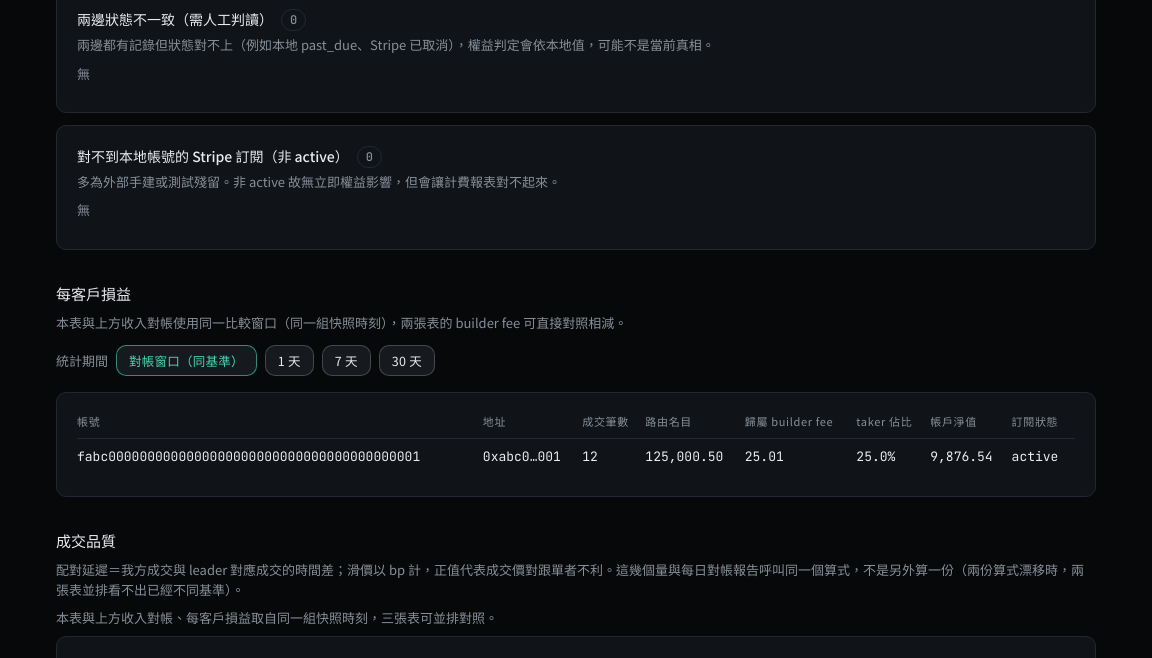
OpsPage › 期間切換 → days 模式送 {days}，切回對帳窗口送 {window:'accrued'}
This screenshot has width=1152, height=658.
(page scrolled)
expect the text "fabc0000000000000000000000000000000000000001" is shown: met, box [77,439,483,476]
Click the button "7 天".
click(346, 361)  # box [322,345,371,376]
(page scrolled)
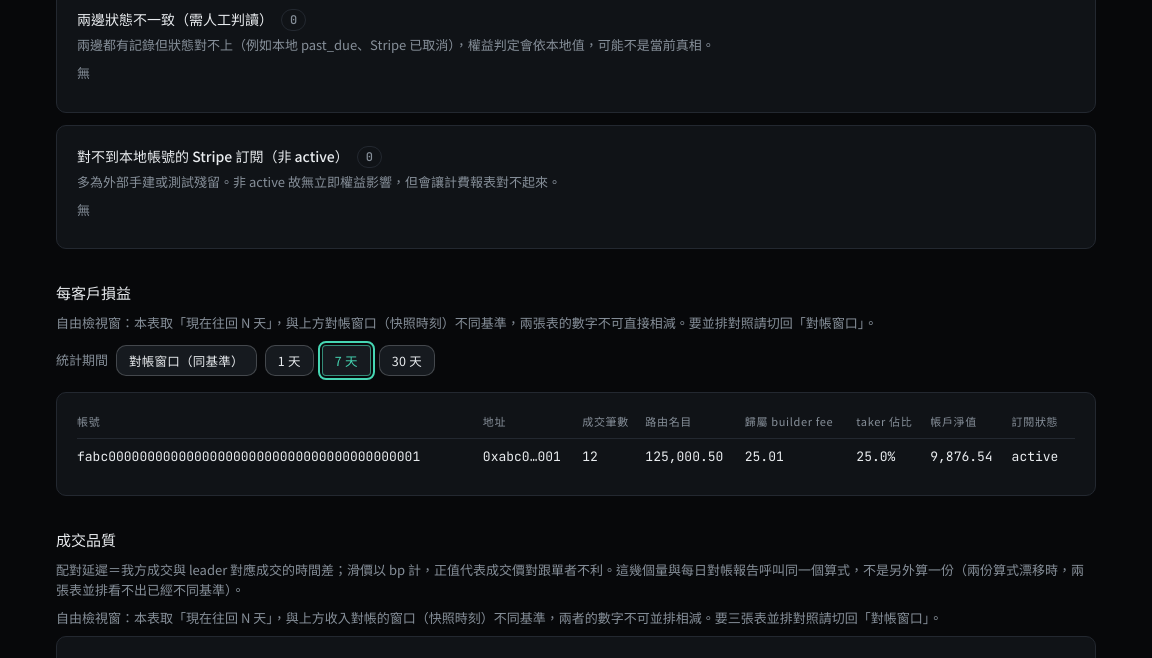
Click the button "30 天".
click(407, 361)  # box [379,345,435,376]
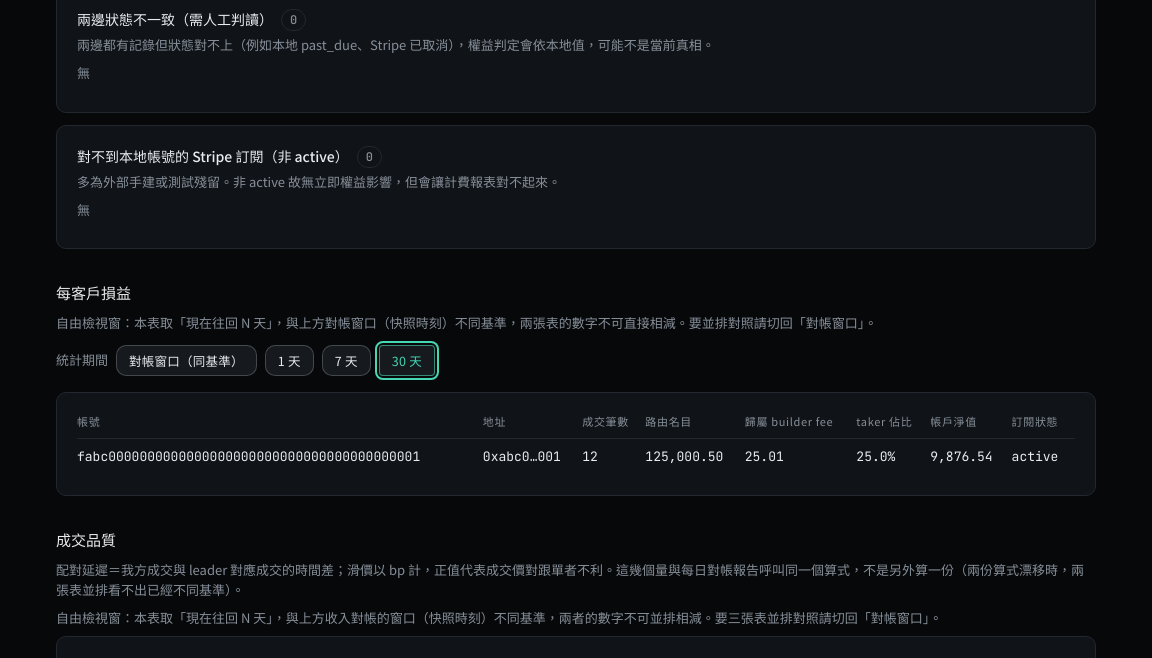
expect the text "以下兩張表使用同一比較窗口" is not shown: met
expect the text "不可直接相減" is shown: met, box [56,313,877,332]
Click the button "對帳窗口（同基準）".
click(186, 361)  # box [116,345,257,376]
(page scrolled)
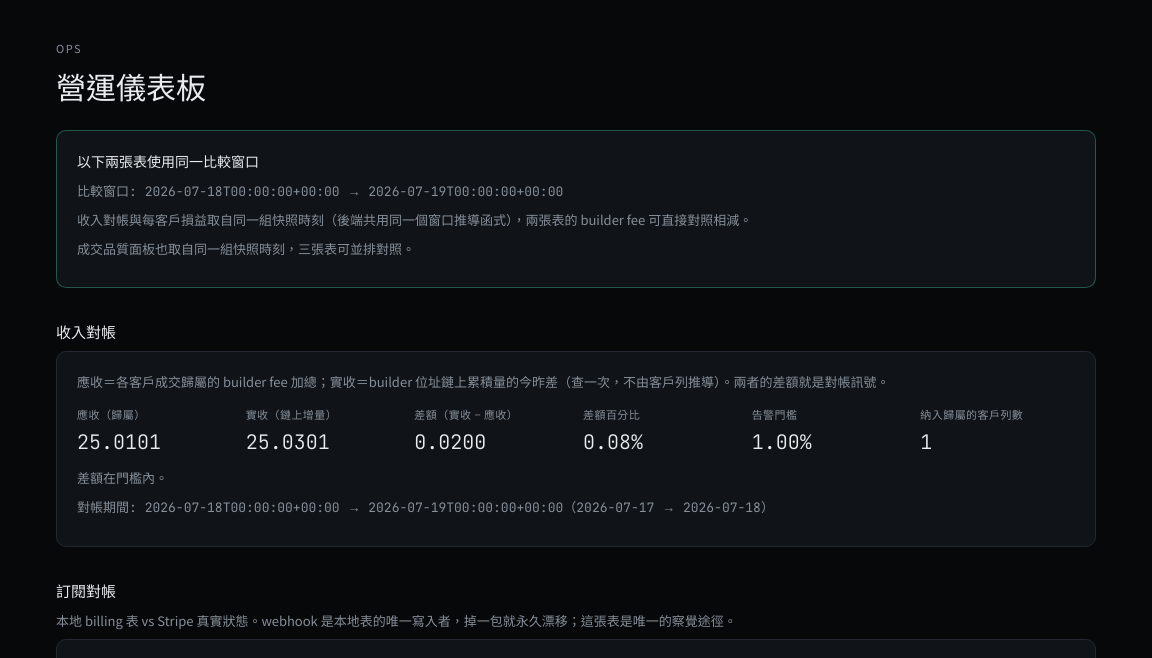
expect the text "以下兩張表使用同一比較窗口" is shown: met, box [77,150,259,170]
